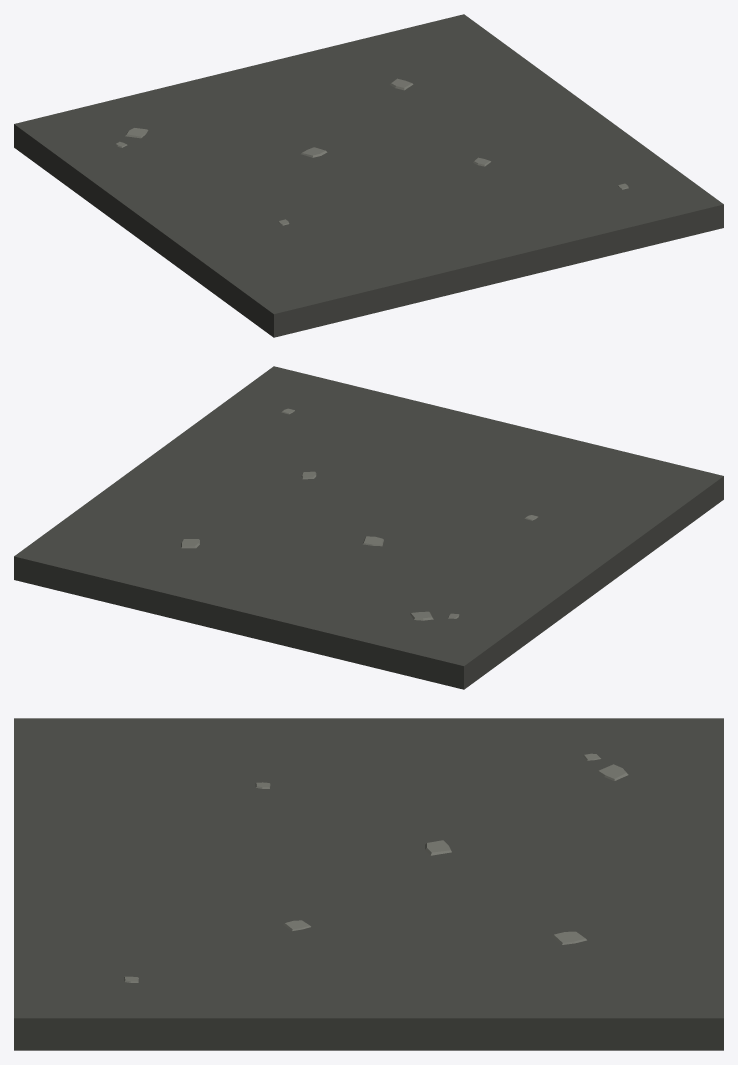
Rendered from floor_6.glb.
3 renders of one model, top to bottom at view 1: azimuth 30°, elevation 25°; view 2: azimuth 150°, elevation 25°; view 3: azimuth 270°, elevation 25°, orthographic. The views are drawn at different scales.
Visible parts, largest first — view 1: Floor_6; view 2: Floor_6; view 3: Floor_6.
Part boxes in pixels (<box>): Floor_6: <box>14,14,723,337</box>; Floor_6: <box>14,366,723,689</box>; Floor_6: <box>14,718,723,1050</box>.
Size of the model in its own units: 2 by 0.1072 by 2.
Materials: 1 (1 with a texture image).
